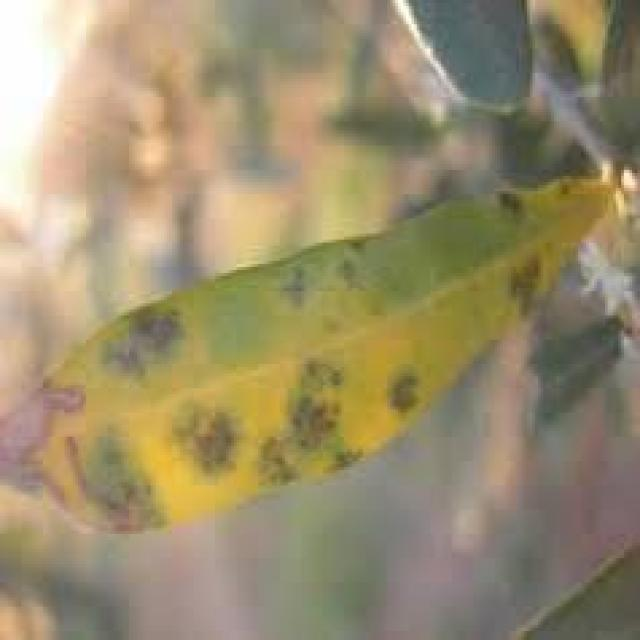OlivePeacockSpot: (2, 179, 610, 528)
